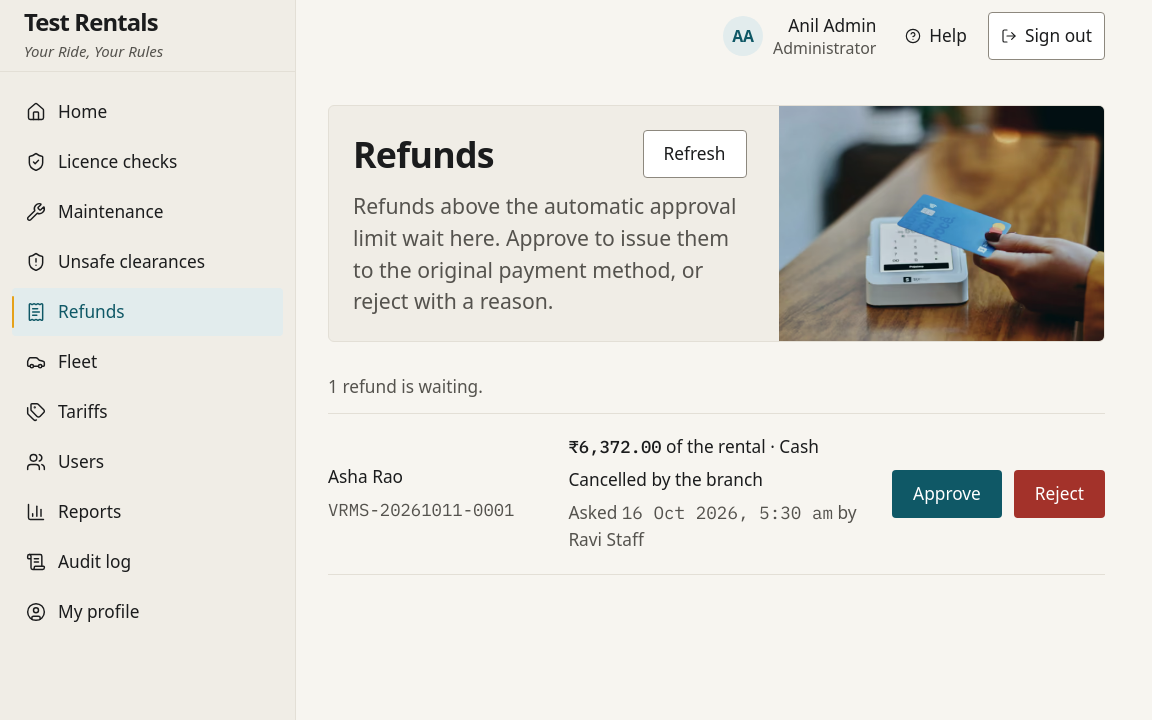
Test case: refund approval (UC 13 Approve Refund) › an approved cash refund is left for the branch to pay out
Click the button "Approve": [947, 494] box [892,470,1002,518]
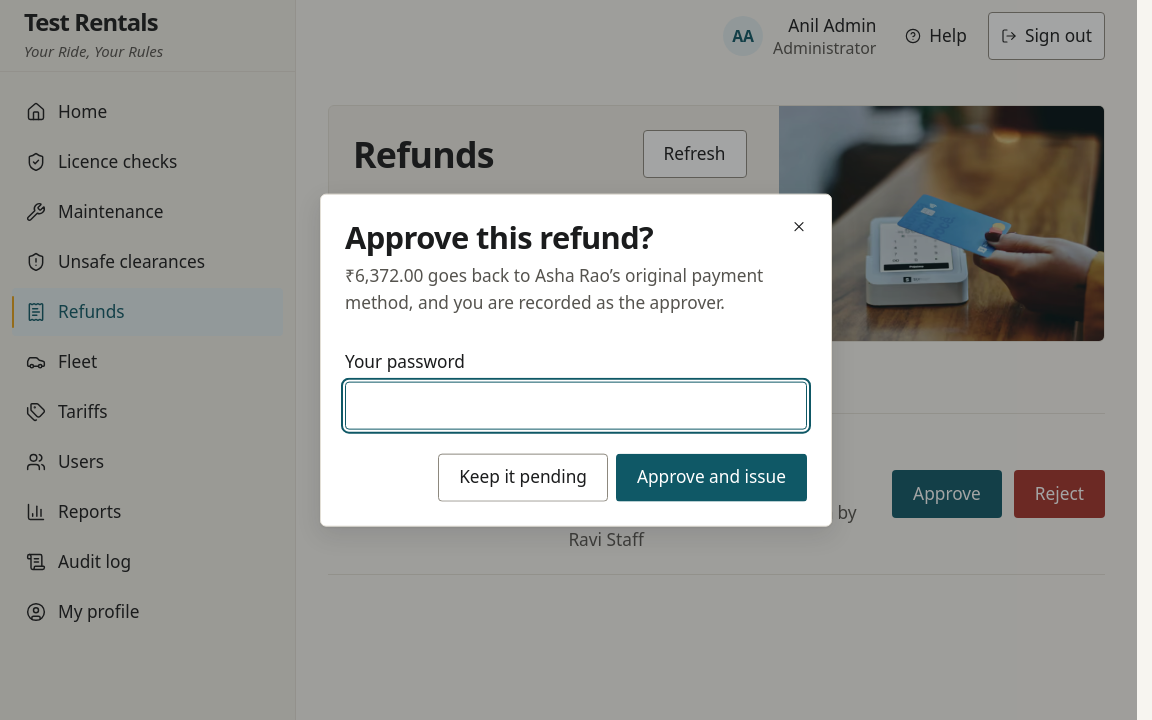
In the password field labelled "Your password": [576, 405] box [345,381,807,429], type "Test@12345"
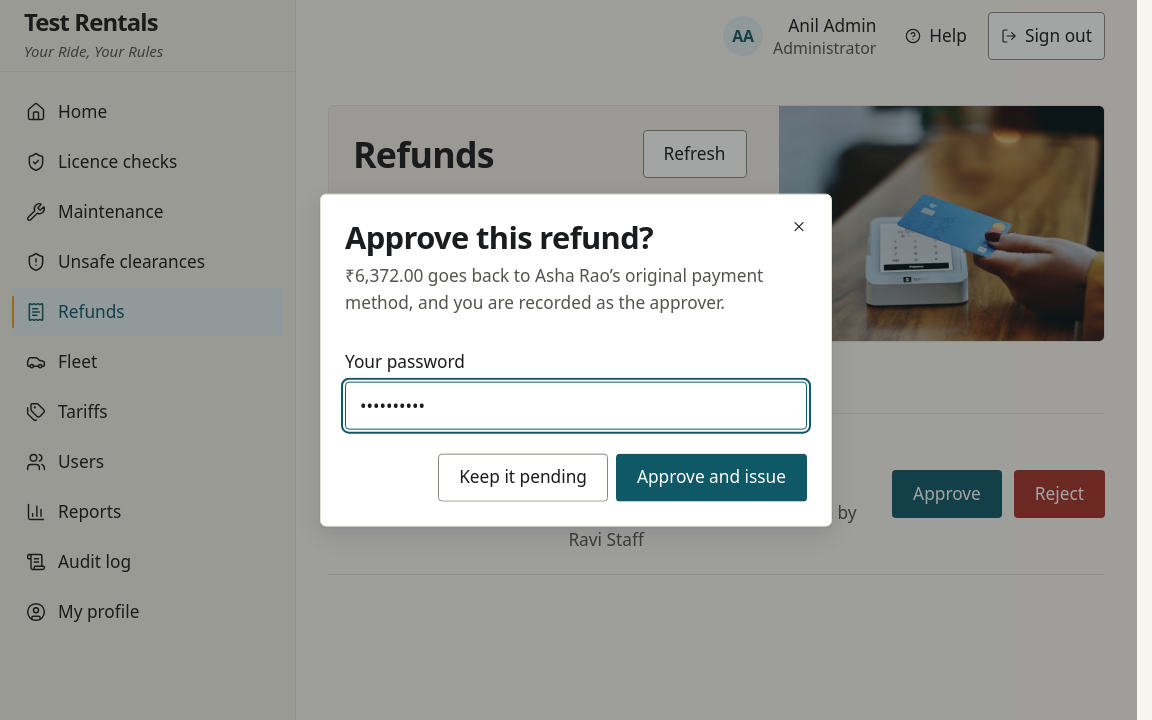
Click the button "Approve and issue": [712, 477] box [616,453,807,501]
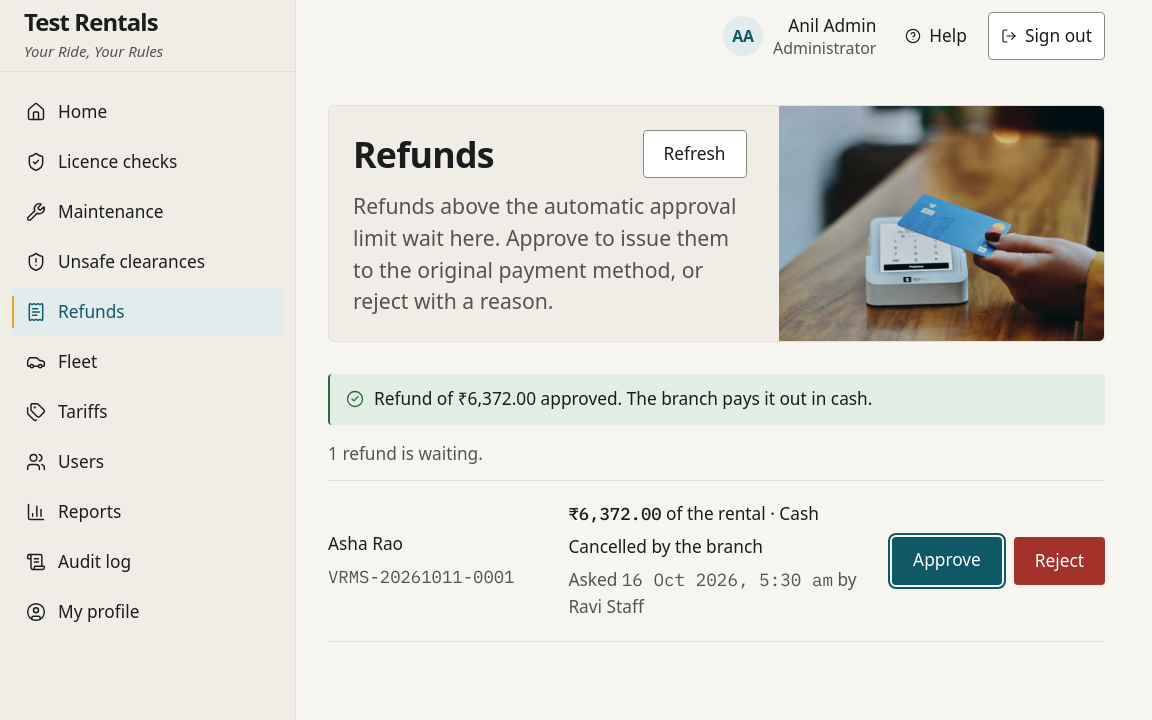
Expected: the text "Refund of ₹6,372.00 approved. The branch pays it out in cash." is shown, [374,386,872,413]
